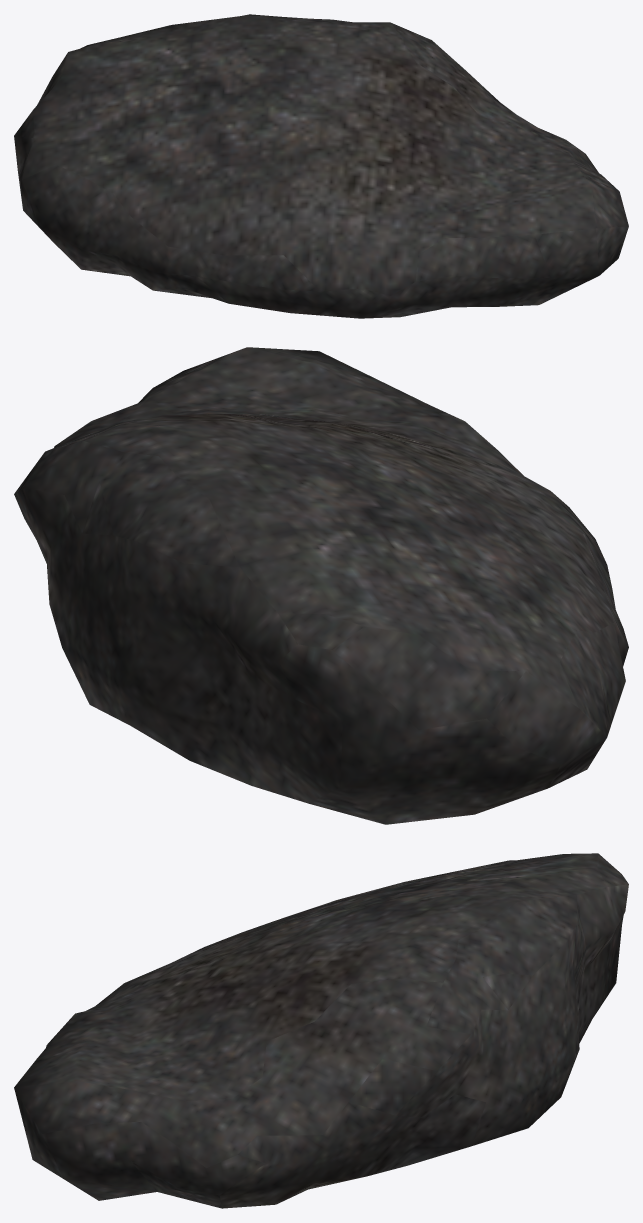
The model's file is rock 16.glb.
3 renders of one model, top to bottom at view 1: azimuth 30°, elevation 25°; view 2: azimuth 150°, elevation 25°; view 3: azimuth 270°, elevation 25°, orthographic. The views are drawn at different scales.
Visible parts, largest first — view 1: AR16; view 2: AR16; view 3: AR16.
Boxes of the visible parts, x1=… form: AR16: x1=14, y1=14, x2=628, y2=318; AR16: x1=14, y1=347, x2=628, y2=824; AR16: x1=14, y1=853, x2=628, y2=1208.
Size of the model in its own units: 15.72 by 5.82 by 15.39.
Materials: 1 (1 with a texture image).
